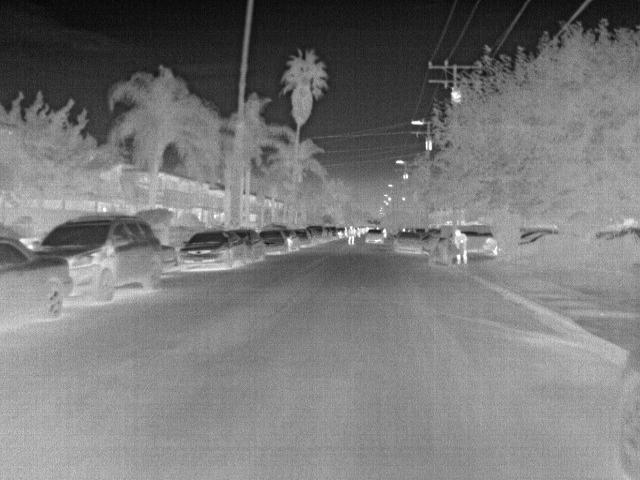car: (34, 216, 164, 302), (0, 234, 75, 326), (609, 344, 639, 478), (175, 233, 246, 269), (229, 232, 268, 261), (394, 229, 425, 254), (256, 233, 291, 254), (303, 224, 326, 244), (363, 228, 386, 244), (283, 229, 300, 250), (297, 230, 313, 246)
person: (451, 226, 467, 265), (346, 224, 359, 245)
